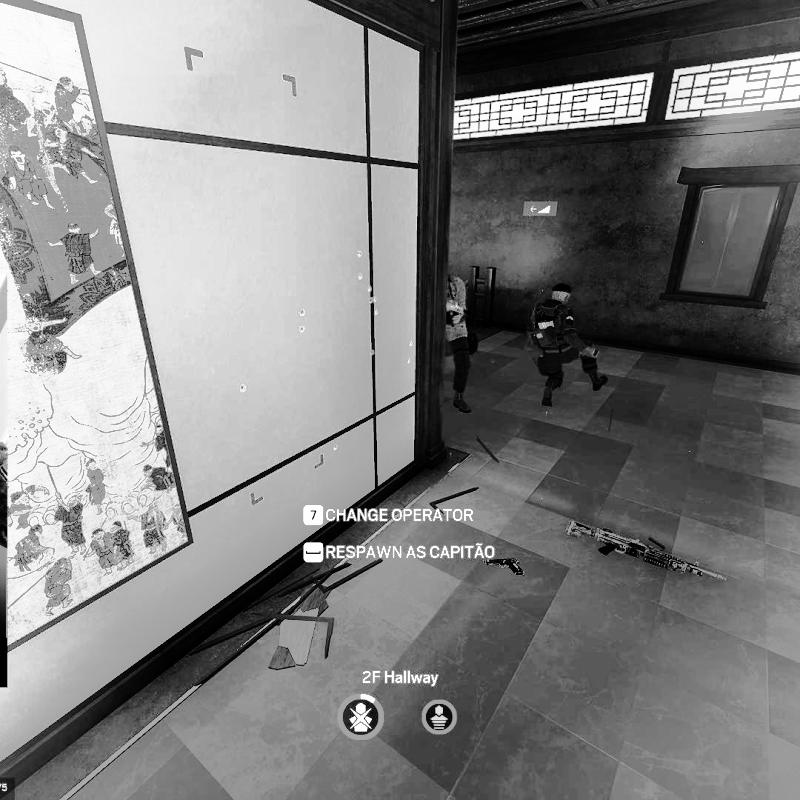Character: (527, 280, 612, 408), (444, 266, 482, 414)
Head: (552, 282, 573, 306)
